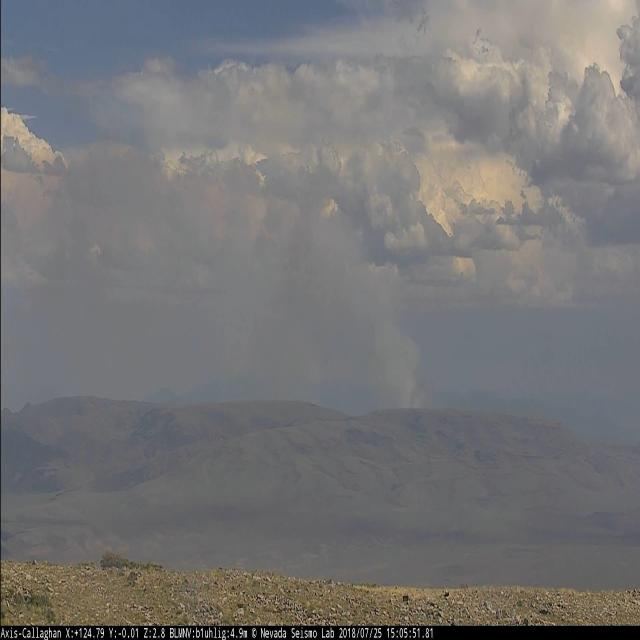smoke: (34, 137, 429, 411)
